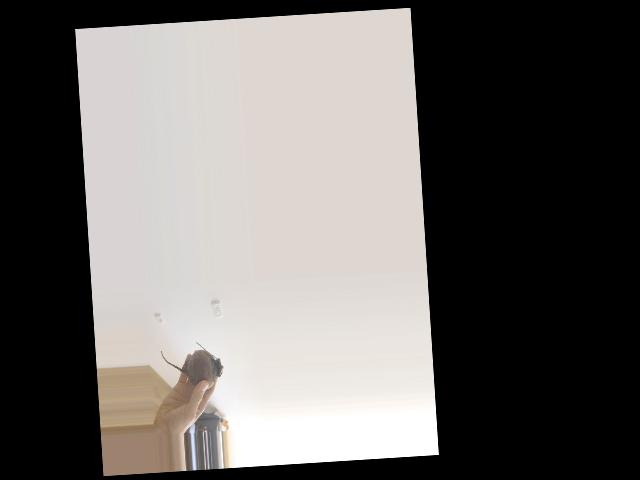beet: (159, 339, 224, 392)
